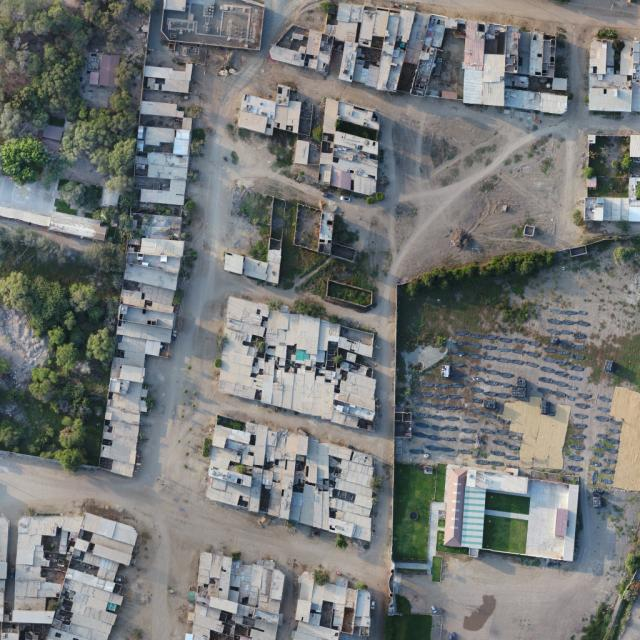building: (97, 98, 201, 480), (204, 291, 398, 434), (196, 412, 392, 543), (427, 463, 580, 569), (427, 465, 580, 569), (309, 99, 393, 198), (495, 391, 571, 471), (291, 571, 376, 640), (235, 192, 297, 285), (288, 204, 366, 262), (237, 83, 304, 139), (143, 60, 193, 93), (294, 139, 316, 166), (223, 252, 246, 275), (351, 285, 373, 308)
dryland: (408, 313, 617, 483), (393, 103, 588, 281), (0, 306, 49, 387), (619, 596, 640, 639)
greenland: (390, 227, 640, 390), (0, 1, 94, 139), (403, 245, 559, 297), (58, 102, 138, 178), (392, 464, 435, 558), (0, 125, 57, 192)
unmetalled_road: (232, 0, 321, 61)
